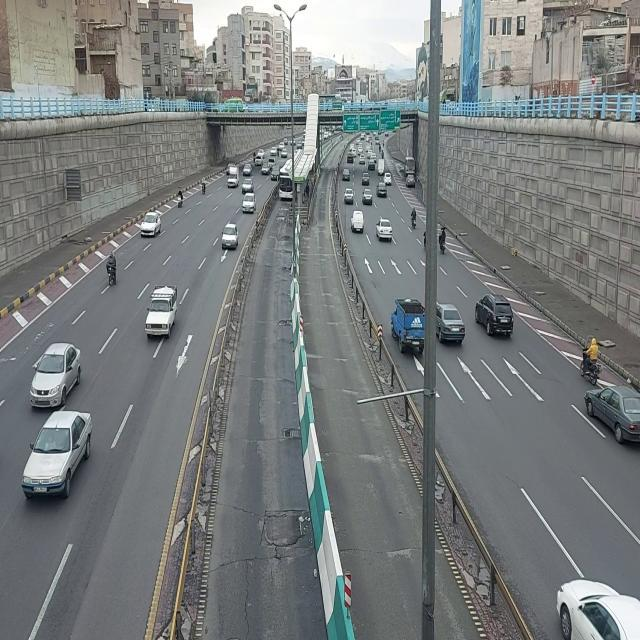Bus: (279, 156, 293, 202)
Car: (22, 410, 93, 503), (556, 577, 640, 639), (583, 383, 639, 447), (29, 340, 83, 406), (145, 283, 179, 340), (475, 293, 515, 338), (436, 302, 466, 344), (139, 211, 163, 240), (221, 222, 239, 250), (376, 218, 394, 242), (241, 192, 257, 215), (227, 165, 239, 189), (376, 181, 388, 199), (362, 188, 374, 206), (241, 178, 253, 194), (344, 187, 354, 205), (271, 164, 281, 180), (261, 161, 271, 177), (383, 172, 392, 188), (405, 173, 415, 187), (242, 163, 252, 177), (362, 172, 371, 187), (342, 168, 351, 182), (368, 159, 376, 171), (255, 155, 263, 167), (270, 146, 278, 157), (281, 148, 289, 159), (257, 148, 265, 158), (359, 154, 366, 165), (347, 154, 354, 164), (370, 153, 377, 163), (367, 149, 373, 159), (351, 149, 357, 158), (358, 147, 364, 155), (350, 143, 356, 151), (366, 144, 371, 152)
Motorcycle: (580, 334, 602, 386), (106, 251, 118, 289), (438, 225, 448, 257), (176, 188, 184, 210), (200, 174, 208, 196), (411, 207, 418, 229), (253, 150, 257, 166), (277, 147, 281, 158), (379, 143, 382, 153), (382, 149, 385, 159), (383, 138, 385, 148)
Pickup: (390, 298, 424, 355), (350, 210, 364, 234), (378, 159, 386, 177)
